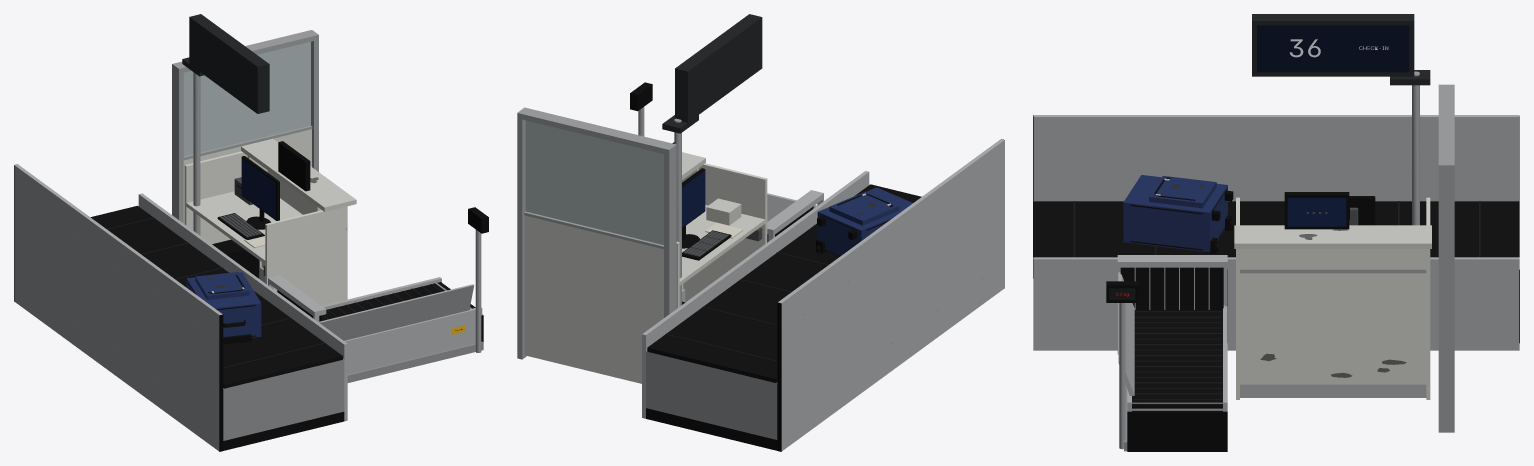
The model's file is checkin_counter@2.glb.
3 views of the same model, side by side, from view 1: azimuth 30°, elevation 25°; view 2: azimuth 150°, elevation 25°; view 3: azimuth 270°, elevation 25° (orthographic). The views are drawn at different scales.
Parts seen in each view (by area): view 1: checkin_1, checkin_10, checkin_0, checkin_14, checkin_9, checkin_3, checkin_4, checkin_15, checkin_2, checkin_17, checkin_6, checkin_11 (+2 smaller); view 2: checkin_1, checkin_0, checkin_14, checkin_10, checkin_3, checkin_9, checkin_15, checkin_17, checkin_4, checkin_2, checkin_6, checkin_7 (+2 smaller); view 3: checkin_1, checkin_0, checkin_10, checkin_3, checkin_16, checkin_17, checkin_4, checkin_2, checkin_15, checkin_11, checkin_6, checkin_9.
Part boxes in pixels (x1,y1,x2,y2): checkin_1: (14, 164, 482, 451); checkin_10: (90, 205, 475, 388); checkin_0: (183, 129, 347, 305); checkin_14: (183, 41, 310, 156); checkin_9: (34, 204, 483, 440); checkin_3: (172, 30, 481, 352); checkin_4: (192, 141, 488, 450); checkin_15: (182, 14, 269, 113); checkin_2: (186, 138, 356, 264); checkin_17: (186, 272, 261, 337); checkin_6: (242, 158, 275, 219); checkin_11: (107, 217, 441, 368); checkin_1: (642, 139, 1004, 451); checkin_0: (524, 163, 767, 383); checkin_14: (525, 120, 663, 244); checkin_10: (647, 184, 921, 382); checkin_3: (517, 107, 681, 359); checkin_9: (646, 183, 982, 439); checkin_15: (662, 14, 762, 133); checkin_17: (817, 187, 912, 256); checkin_4: (630, 82, 857, 450); checkin_2: (679, 152, 765, 285); checkin_6: (682, 171, 704, 227); checkin_7: (777, 139, 1004, 451); checkin_1: (1033, 115, 1519, 411); checkin_0: (1236, 197, 1430, 399); checkin_10: (1033, 177, 1519, 408); checkin_3: (1119, 71, 1454, 449); checkin_16: (1257, 25, 1409, 72); checkin_17: (1123, 175, 1227, 252); checkin_4: (1106, 190, 1375, 451); checkin_2: (1234, 225, 1431, 248); checkin_15: (1252, 14, 1430, 85); checkin_11: (1073, 201, 1480, 400); checkin_6: (1287, 198, 1346, 226); checkin_9: (1124, 384, 1222, 451).
Bounding box in the file's own units: 2.56 × 2.3 × 3.
